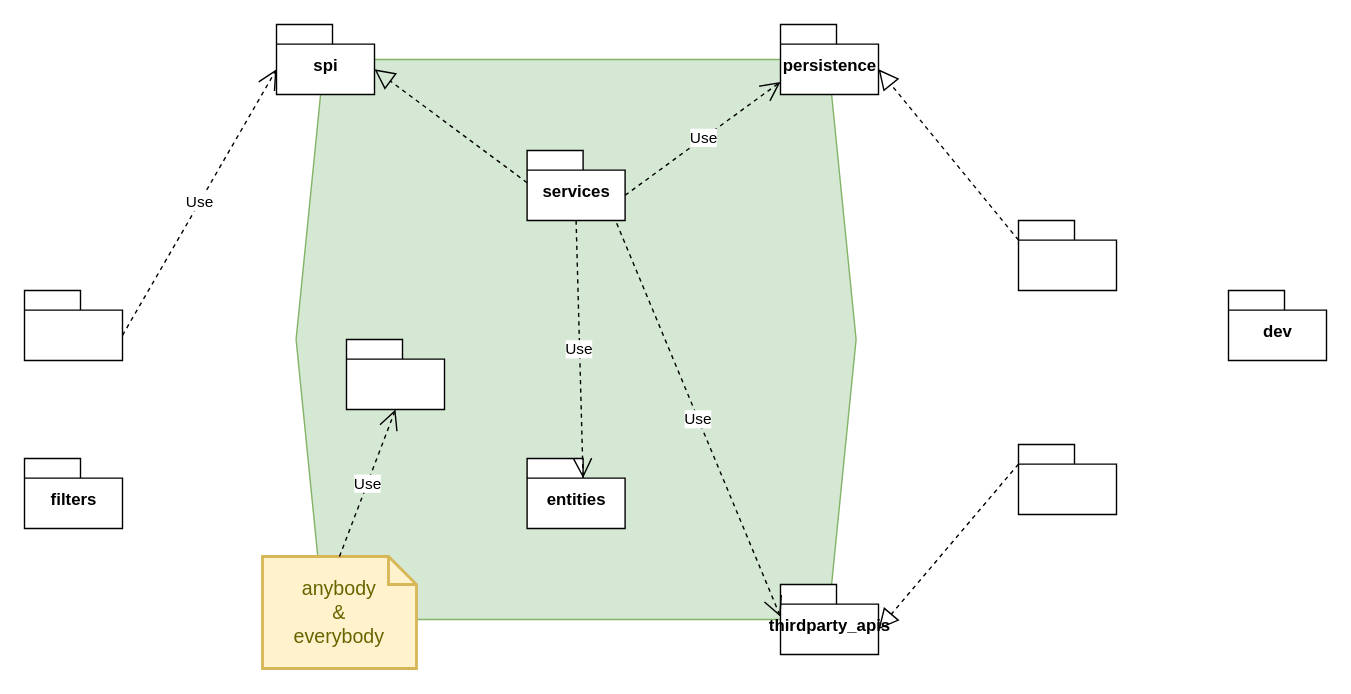
The diagram is 1351 pixels wide and 694 high, and some of its shapes have lost their labels. The shapes that lost their labels are listed below. From the top down, each one's centre as x and y in pixels, then its label:
At (x=1066, y=254): "mongodb".
At (x=72, y=324): "api".
At (x=394, y=374): "value_objects".
At (x=1066, y=478): "thirdparty_services".
